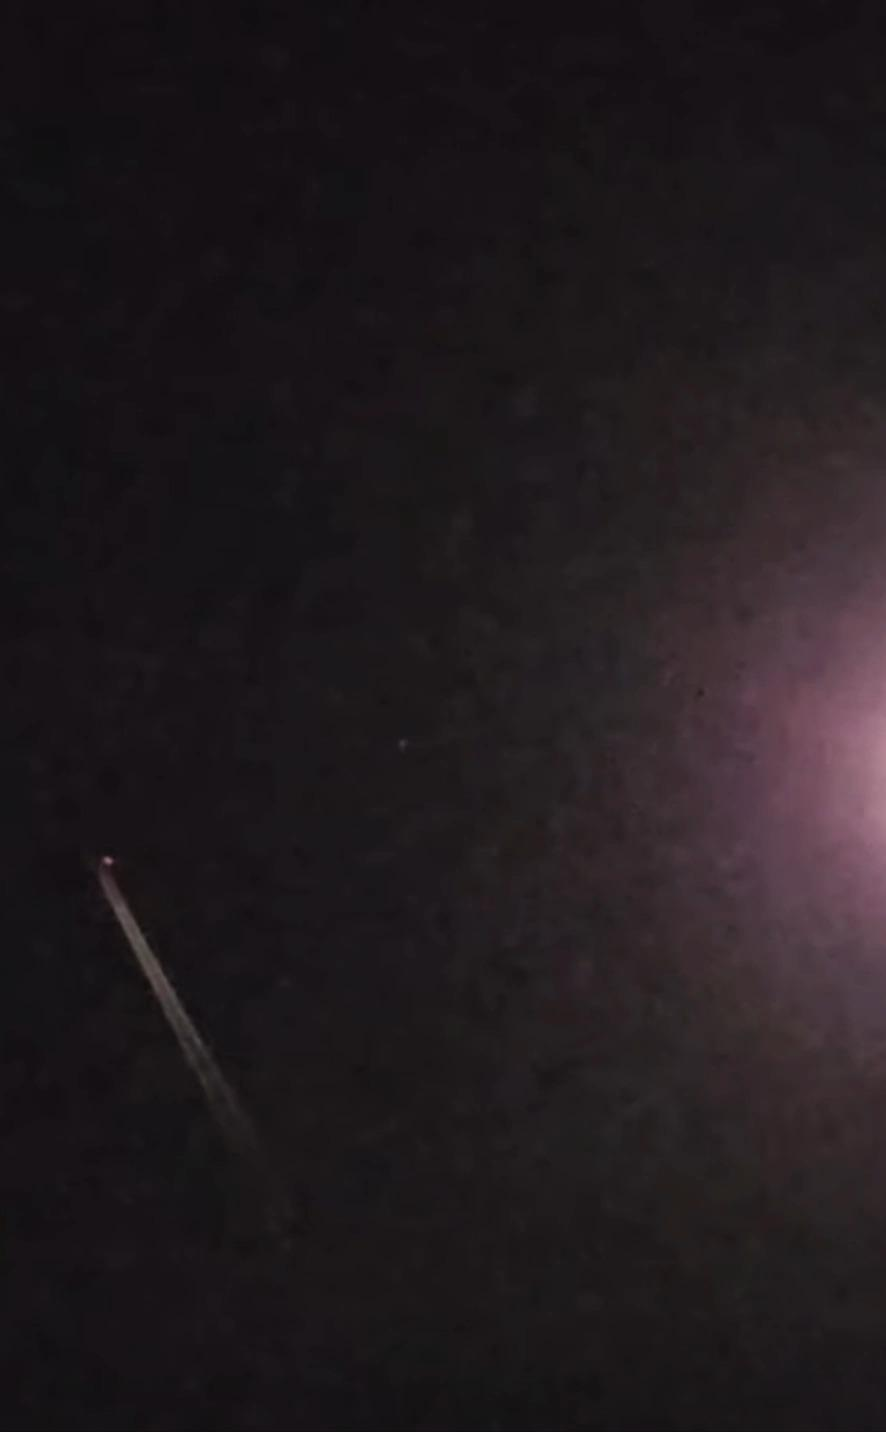Plane: (72, 834, 233, 1072)
